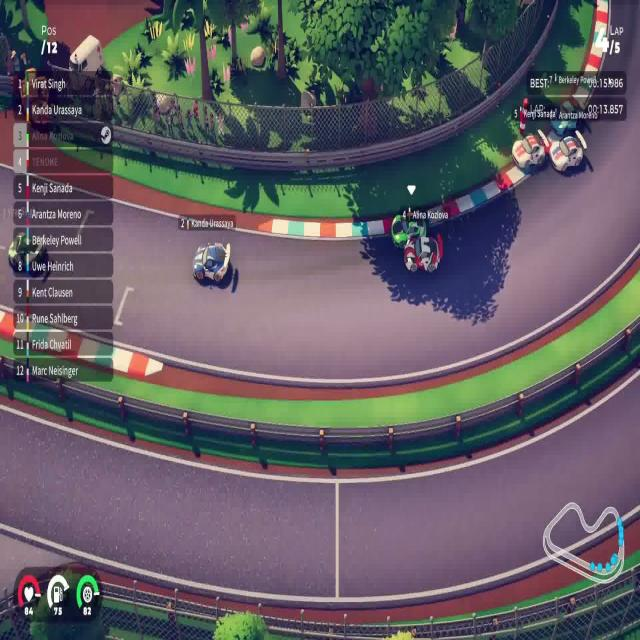car: (192, 240, 231, 285), (549, 128, 585, 173), (391, 208, 429, 247), (511, 133, 545, 172), (407, 237, 440, 272)
